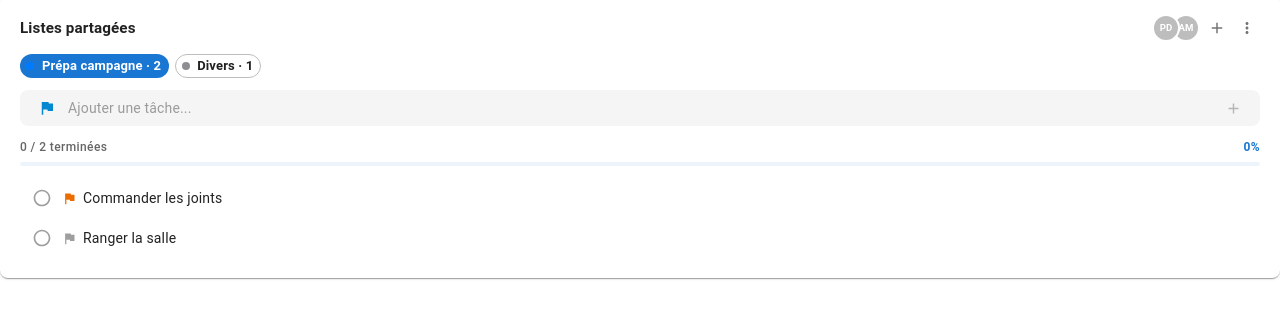
Test case: SharedTasksWidget › coche une tâche : elle passe dans la section Terminées
The width and height of the screenshot is (1280, 332).
Step 1. Click the checkbox named "cocher commander les joints" → [42, 198], box [32,188,52,208]
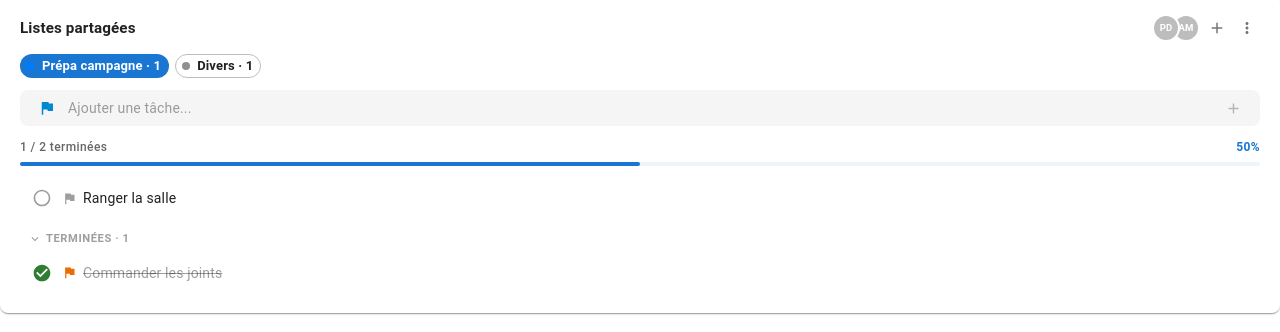
Result: the text "Terminées · 1" is shown at [46,230,129,249]
Result: the text "1 / 2 terminées" is shown at [20,138,107,158]
Result: the checkbox named "décocher commander les joints" is checked at [32,263,52,283]
